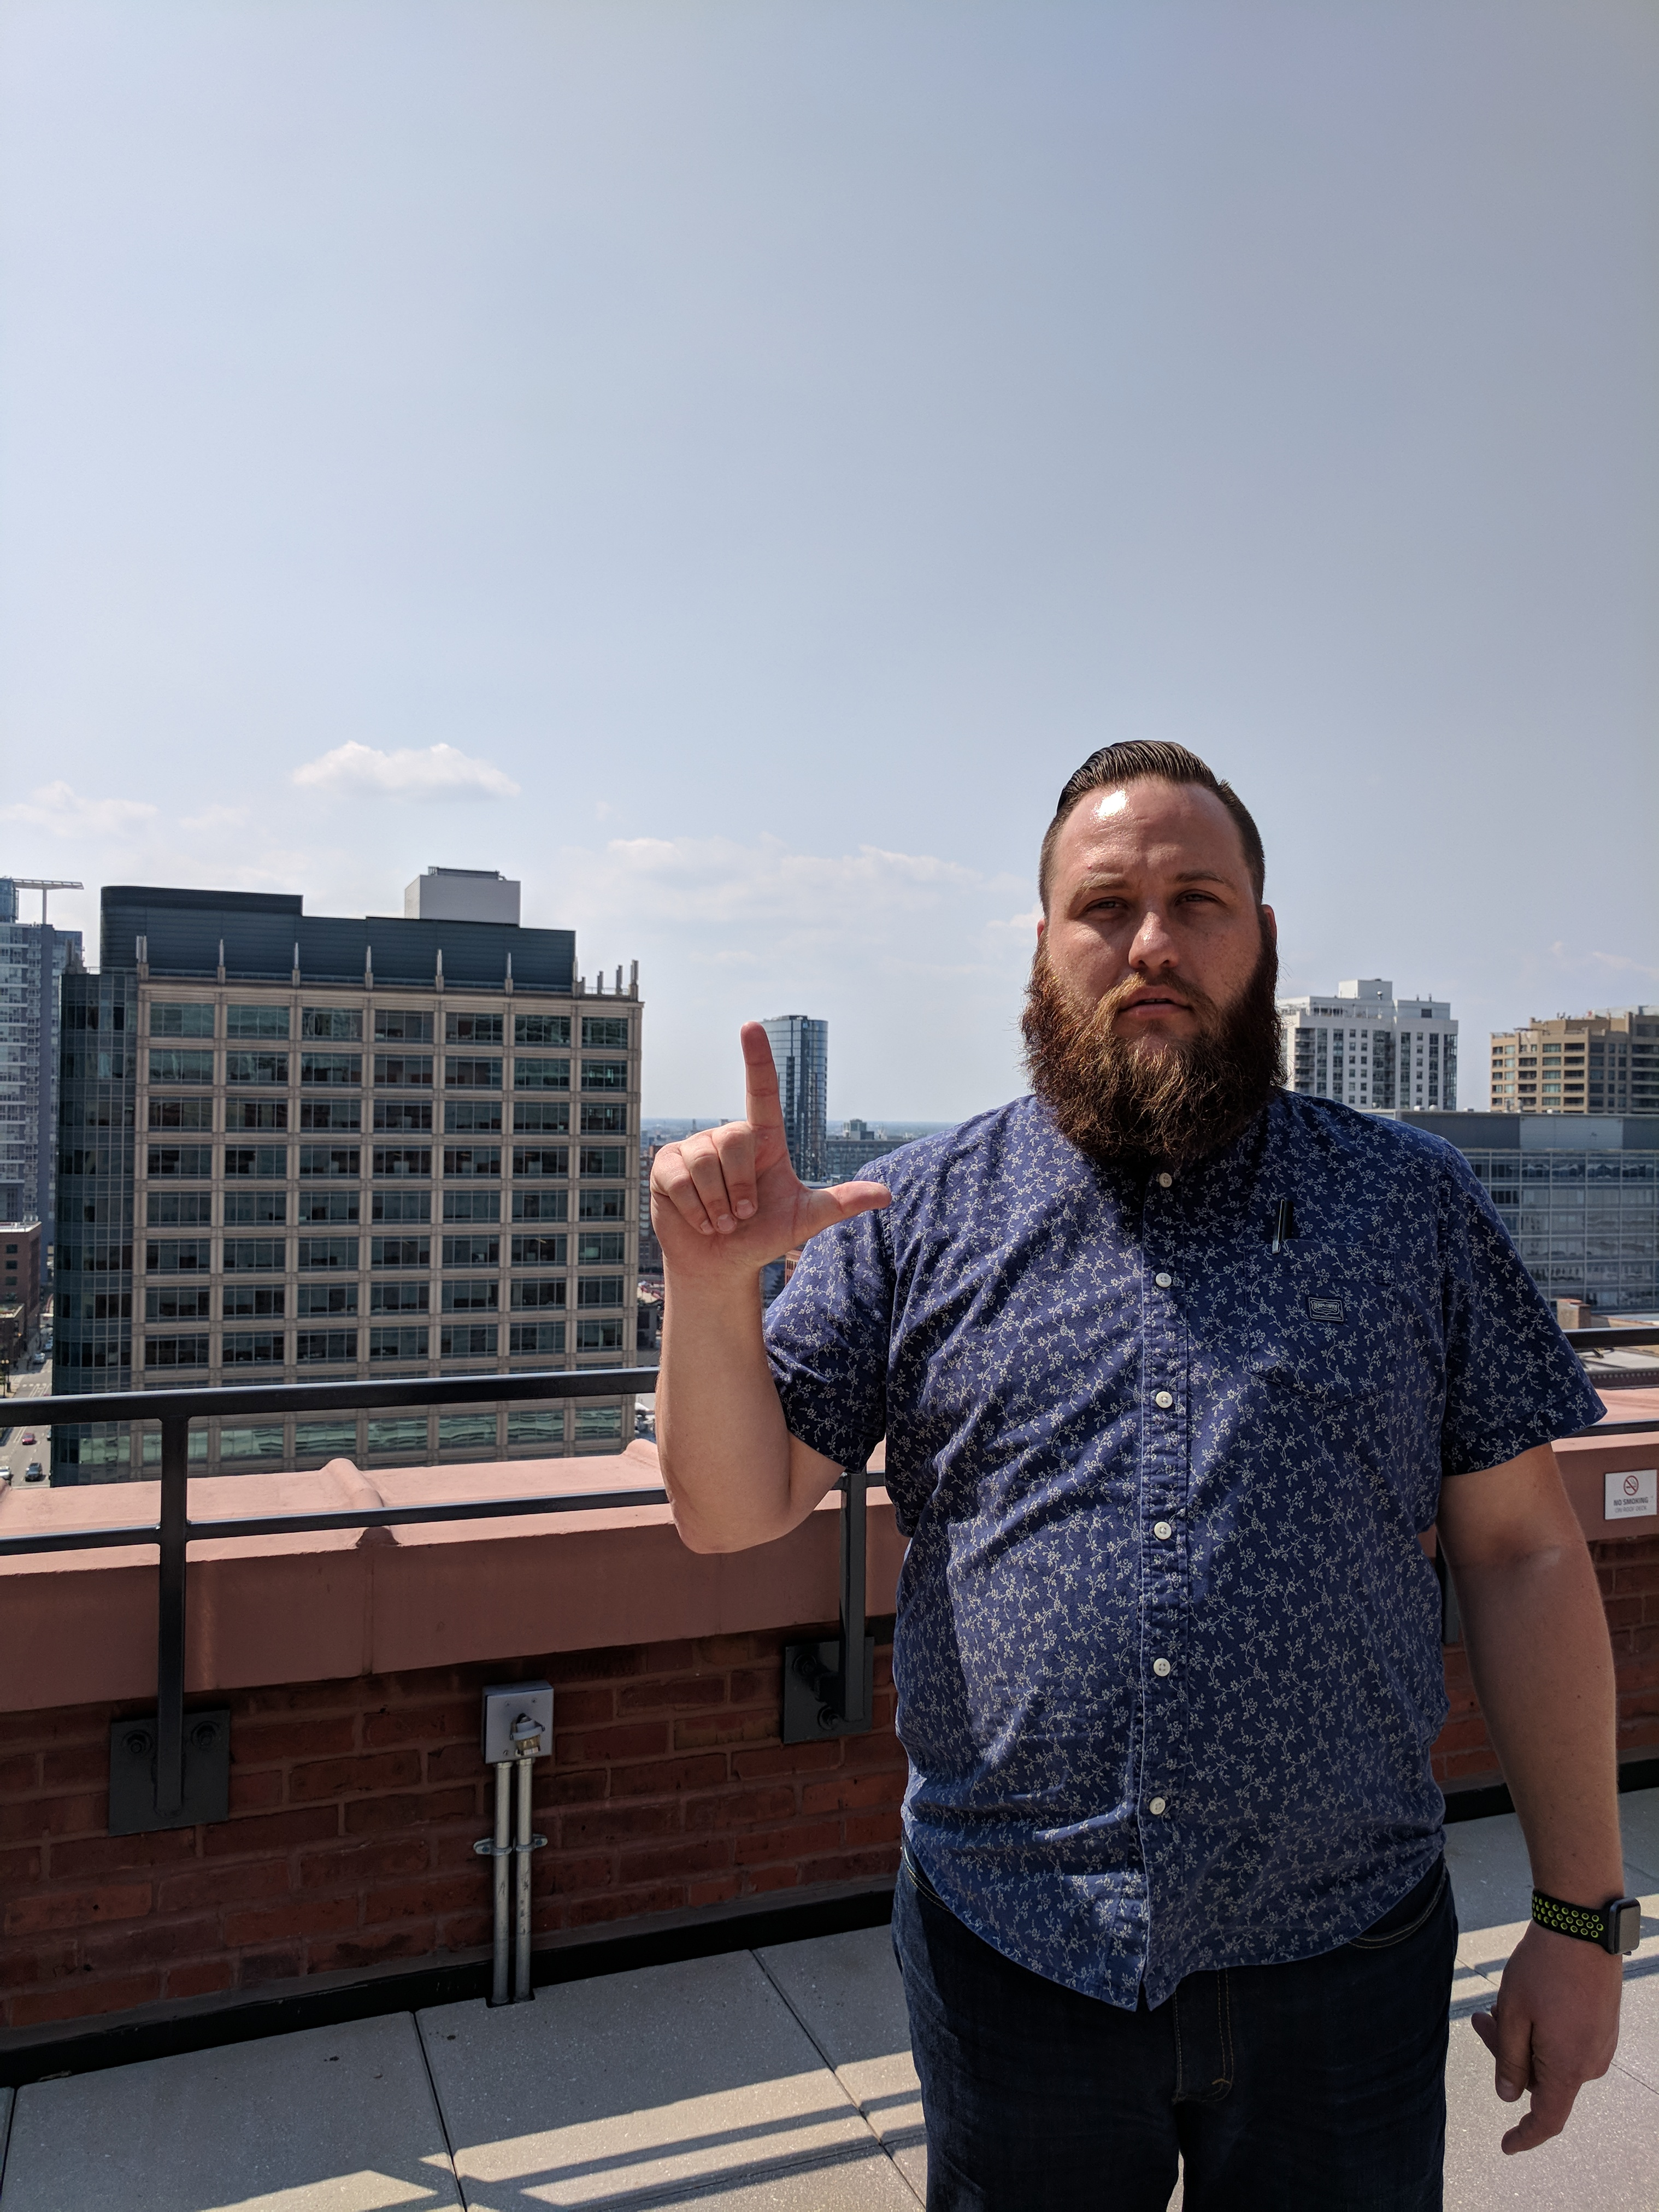l: (640, 1008, 896, 1275)
